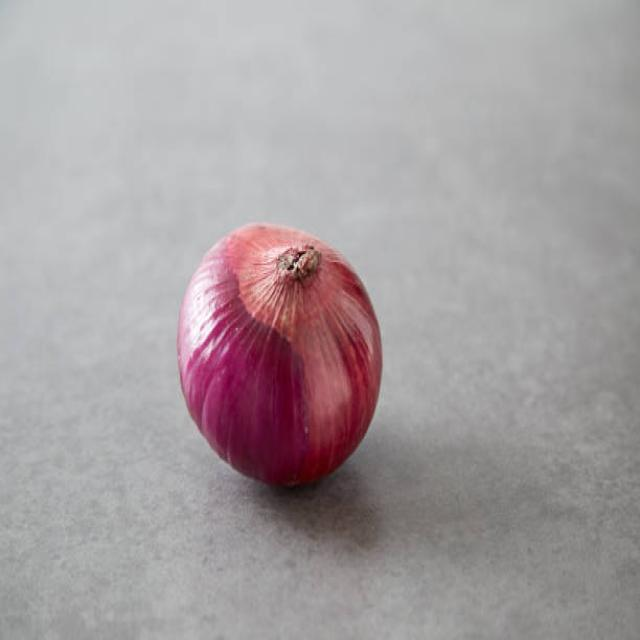onion: (173, 221, 386, 501)
